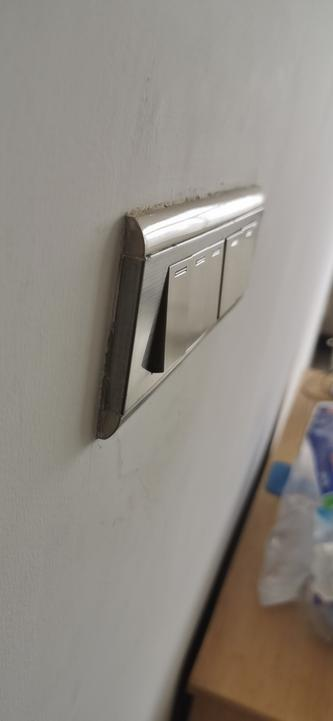switch: (165, 260, 186, 367), (187, 252, 208, 348), (199, 247, 222, 331), (224, 233, 243, 313)
